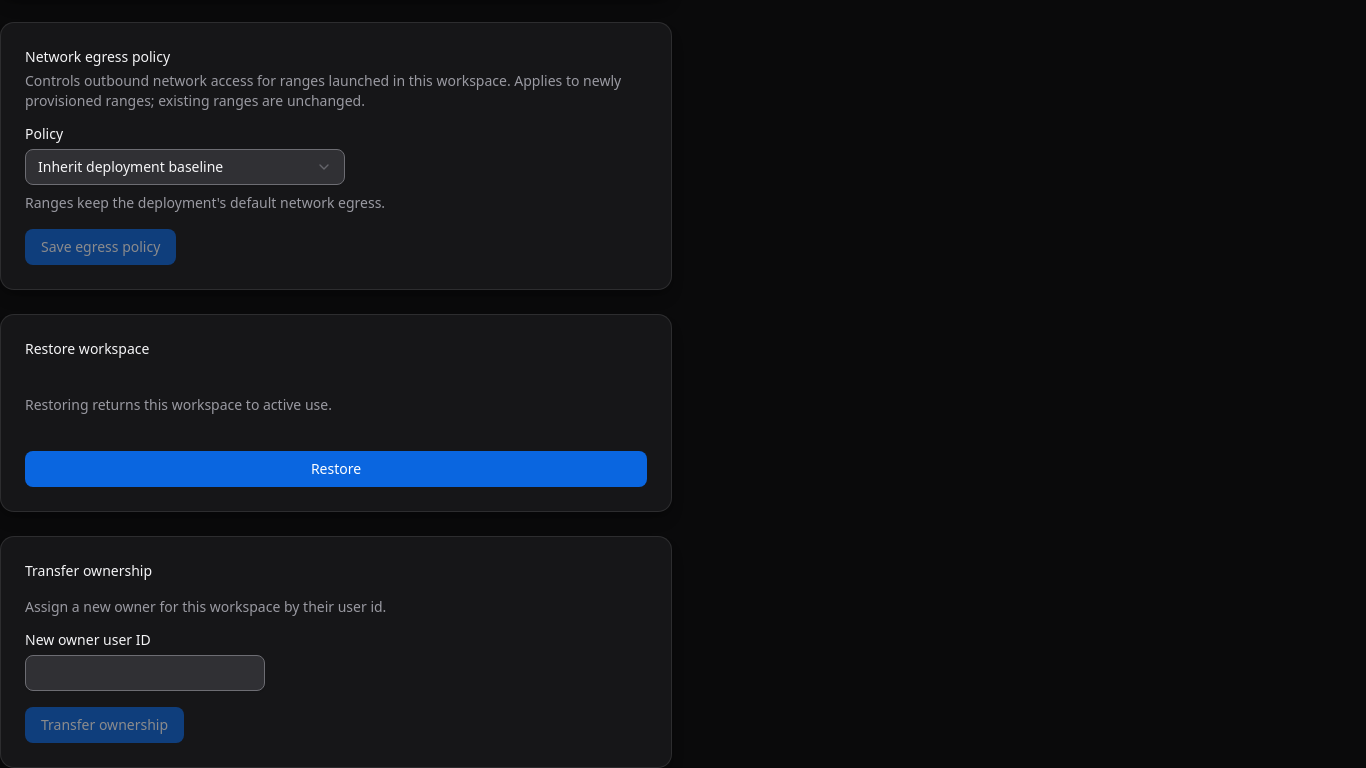
WorkspaceDetailPage › restores an archived workspace after confirmation
(page scrolled)
Click the button "Restore".
click(336, 469)  # box [25,451,647,487]
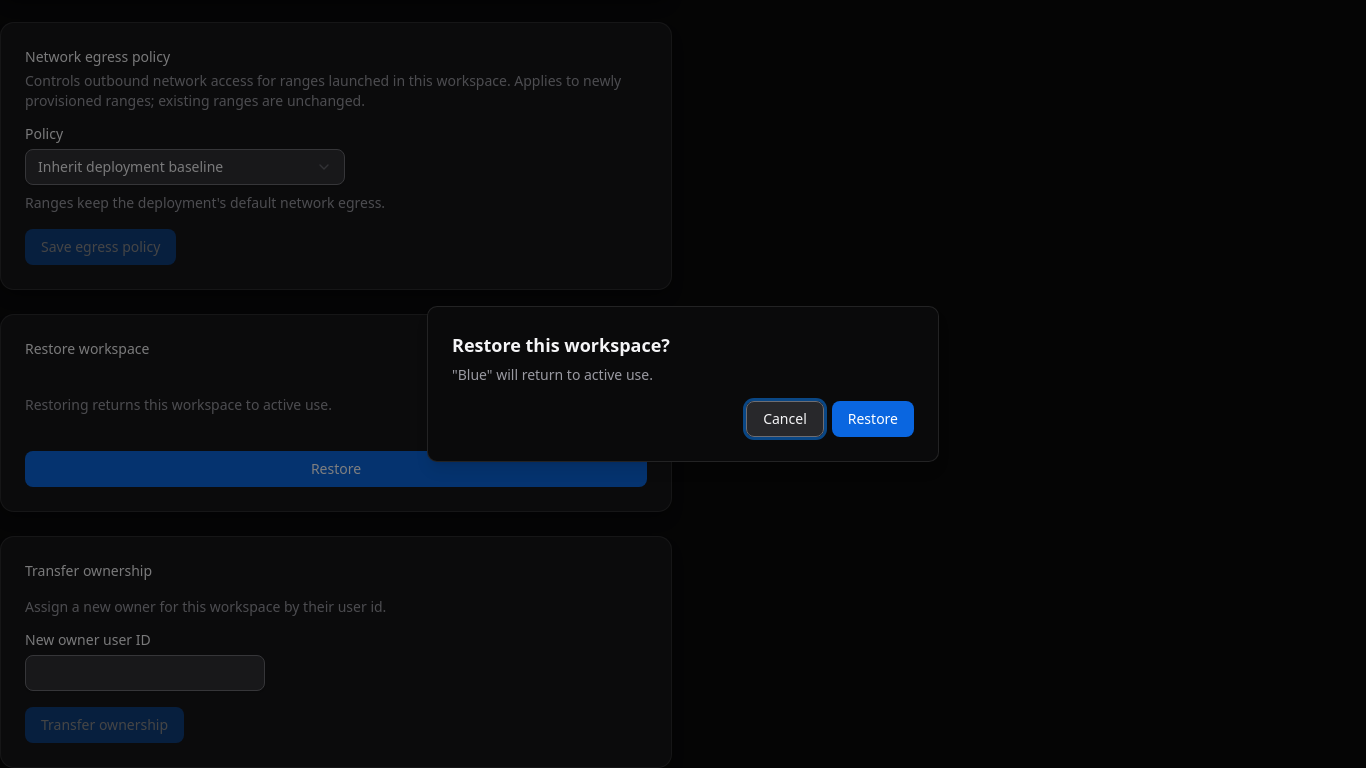
Click the button "Restore".
click(873, 419)  # box [832,401,914,437]
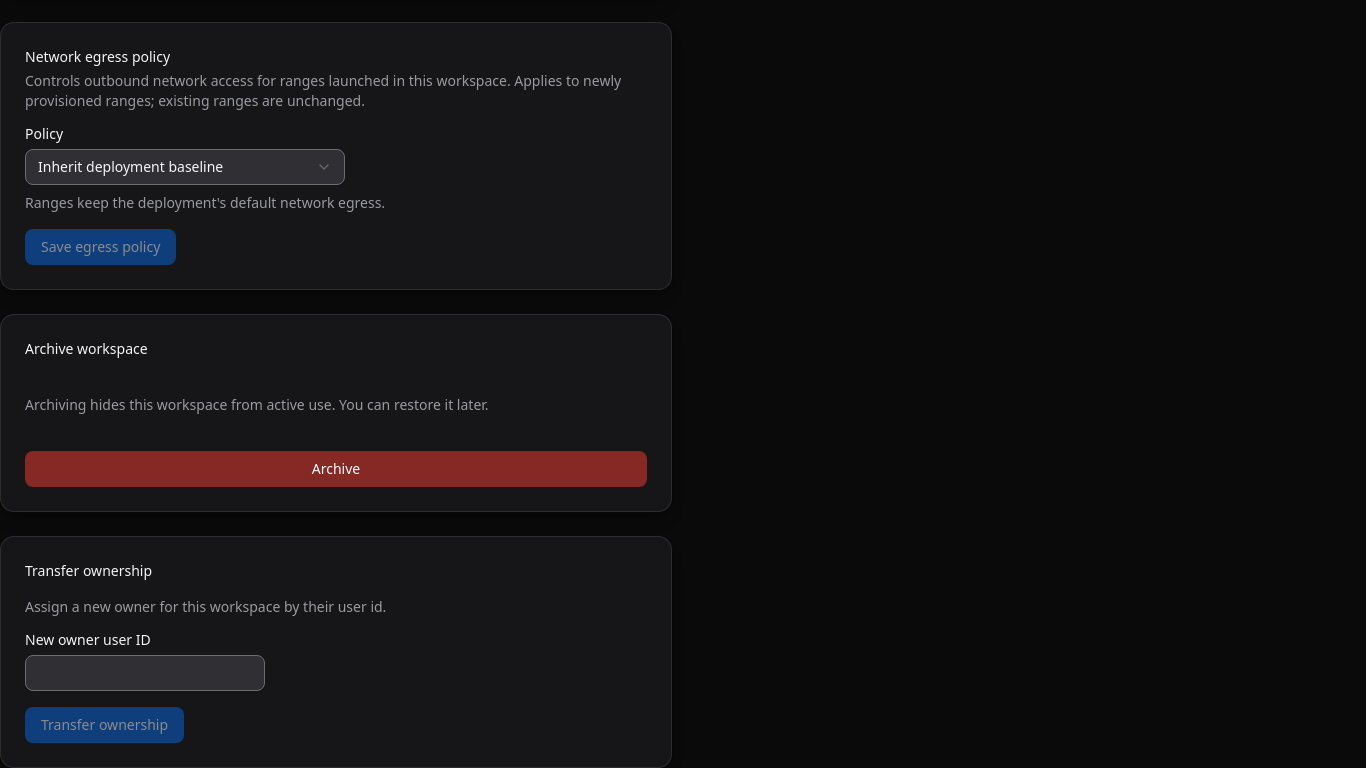
Check: the dialog is gone
Check: the button "Archive" is shown, box [25,451,647,487]
